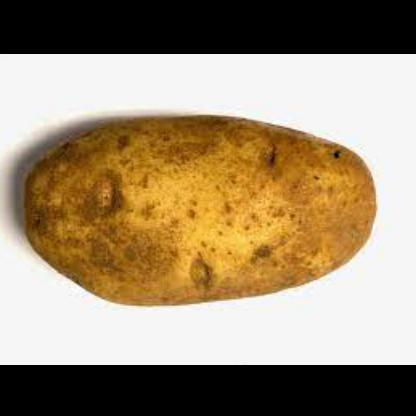potato: (22, 112, 376, 304)
